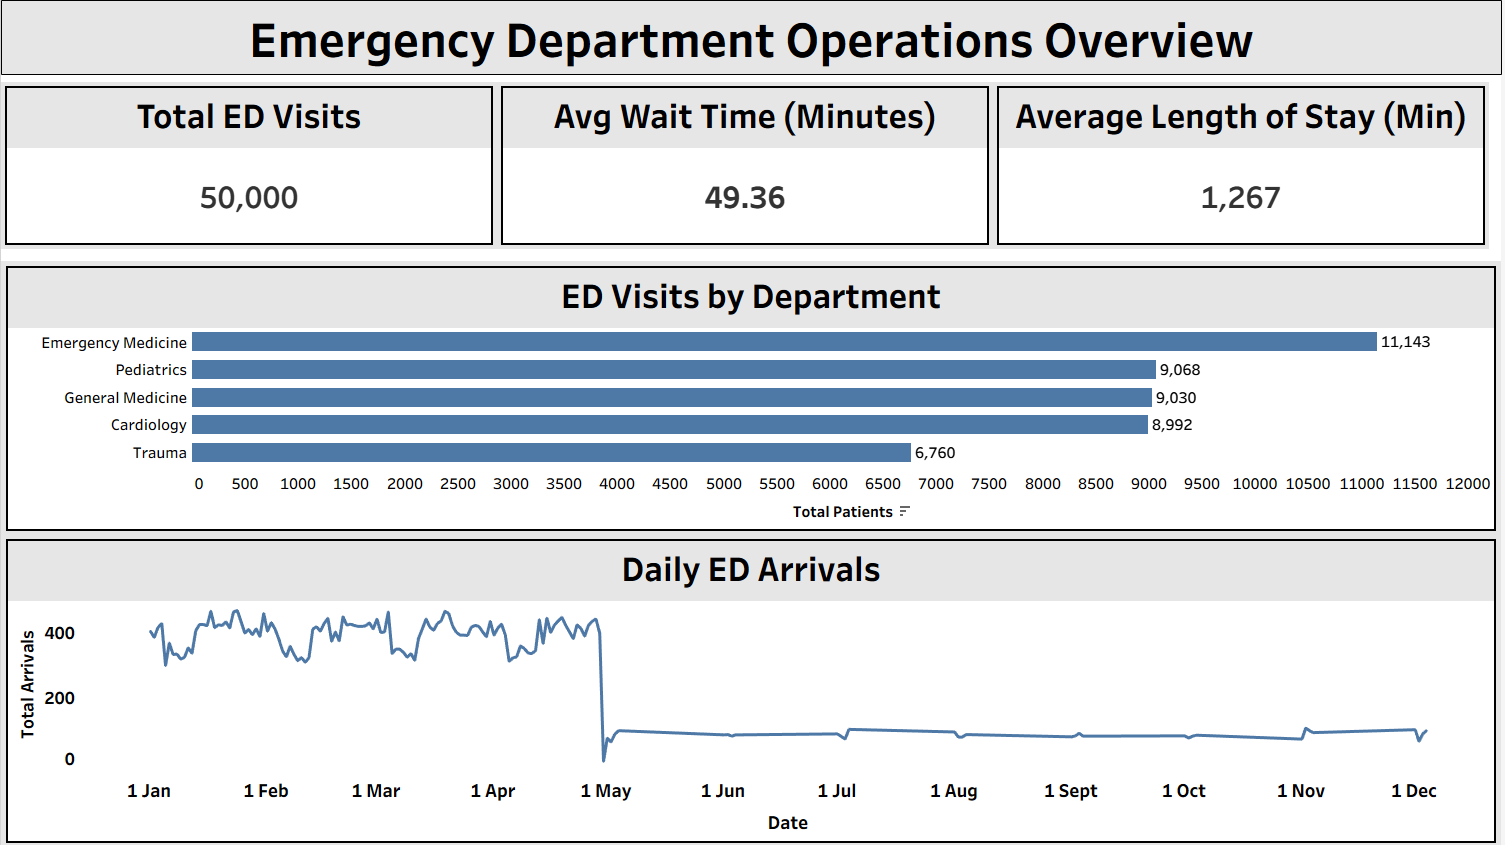

What the dashboard file says about the page in this screenshot:
{"tool":"tableau","page":{"name":"ED Operations Overview","canvas":[1000,1000],"units":"permille","ordinal":1},"visuals":[{"type":"text","box":[0,0,998.8,87.9]},{"type":"worksheet","title":"KPI_Total_Visits","mark":"Automatic","box":[86.7,130.6,195.3,118.8]},{"type":"worksheet","title":"KPI_Avg_Wait","mark":"Automatic","box":[400,130.6,203.3,118.8]},{"type":"worksheet","title":"KPI_Avg_LOS","mark":"Automatic","box":[713.3,130.6,234.7,118.8]},{"type":"worksheet","title":"Chart_Department_Visits","mark":"Bar","rows":["Calculation_397442678730870785"],"cols":["patient_id"],"box":[12.7,328.2,980.7,317.7]},{"type":"worksheet","title":"Chart_Daily_Arrivals","mark":"Line","rows":["patient_id"],"cols":["arrival_date"],"box":[12.7,667.1,980.7,317.7]}]}

Visuals, with their boxes on the dashboard's canvas, which has no fixed pixel size, in thousandths of its width and height (x1, y1, x2, y2). These are canvas units, not pixel positions in the 1505x845 screenshot, which may show the page scaled, cropped or inside an application window:
text: crop(0, 0, 999, 88)
"KPI_Total_Visits" worksheet: crop(87, 131, 282, 249)
"KPI_Avg_Wait" worksheet: crop(400, 131, 603, 249)
"KPI_Avg_LOS" worksheet: crop(713, 131, 948, 249)
"Chart_Department_Visits" worksheet (Bar marks): crop(13, 328, 993, 646)
"Chart_Daily_Arrivals" worksheet (Line marks): crop(13, 667, 993, 985)
